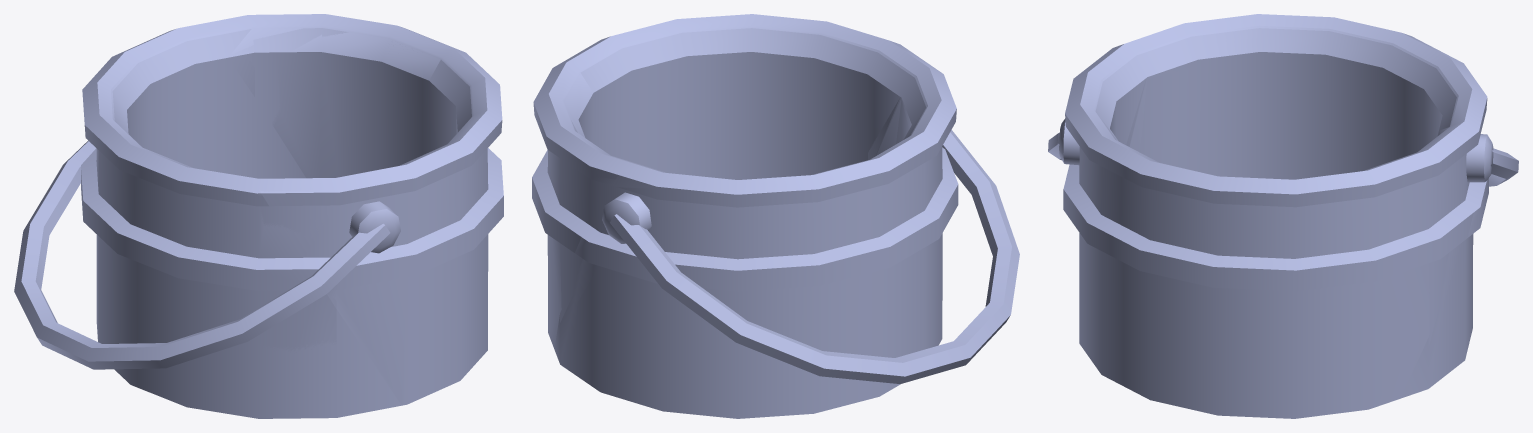
Rendered from bucket.fbx.
3 renders of one model, left to right at view 1: azimuth 30°, elevation 25°; view 2: azimuth 150°, elevation 25°; view 3: azimuth 270°, elevation 25°, orthographic.
Parts seen in each view (by area): view 1: bucket1.005, bucket1.002, bucket1.004, bucket1.001, bucket1.006; view 2: bucket1.005, bucket1.004, bucket1.001, bucket1.002, bucket1.003; view 3: bucket1.002, bucket1.005, bucket1.001, bucket1.003, bucket1.004, bucket1.006.
Boxes of the visible parts, box(x1,y1,x2,y2) form: bucket1.005: box(81, 14, 502, 418); bucket1.002: box(228, 28, 503, 405); bucket1.004: box(14, 140, 390, 369); bucket1.001: box(81, 49, 336, 352); bucket1.006: box(349, 201, 400, 253); bucket1.005: box(532, 14, 958, 418); bucket1.004: box(610, 130, 1019, 384); bucket1.001: box(554, 98, 937, 418); bucket1.002: box(532, 38, 940, 348); bucket1.003: box(602, 192, 651, 243); bucket1.002: box(1063, 49, 1481, 418); bucket1.005: box(1063, 14, 1488, 415); bucket1.001: box(1130, 28, 1487, 398); bucket1.003: box(1466, 134, 1493, 182); bucket1.004: box(1048, 132, 1518, 186); bucket1.006: box(1059, 118, 1079, 165).
Size of the model in its own units: 0.658 by 0.6845 by 0.3713.
